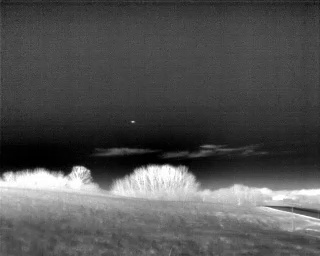AIRPLANE: (129, 118, 137, 125)
